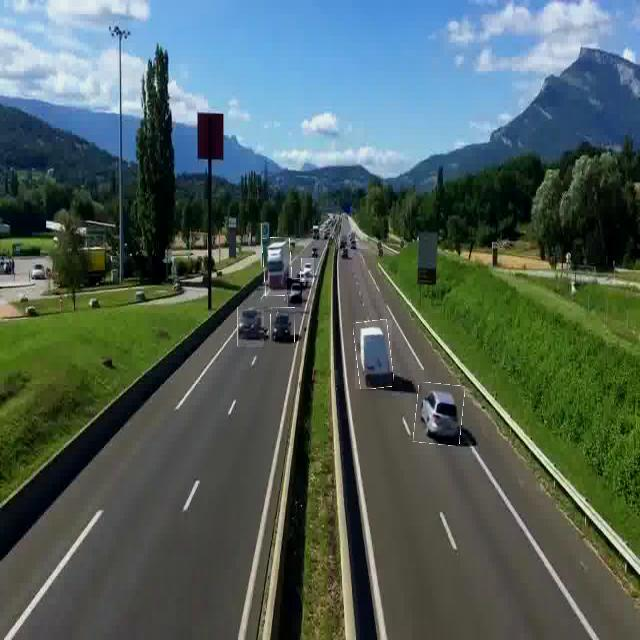Car: (415, 383, 463, 445), (355, 320, 392, 389), (237, 308, 264, 348), (271, 307, 295, 348), (287, 278, 302, 307), (301, 258, 314, 282)
Truck: (263, 237, 292, 296)
